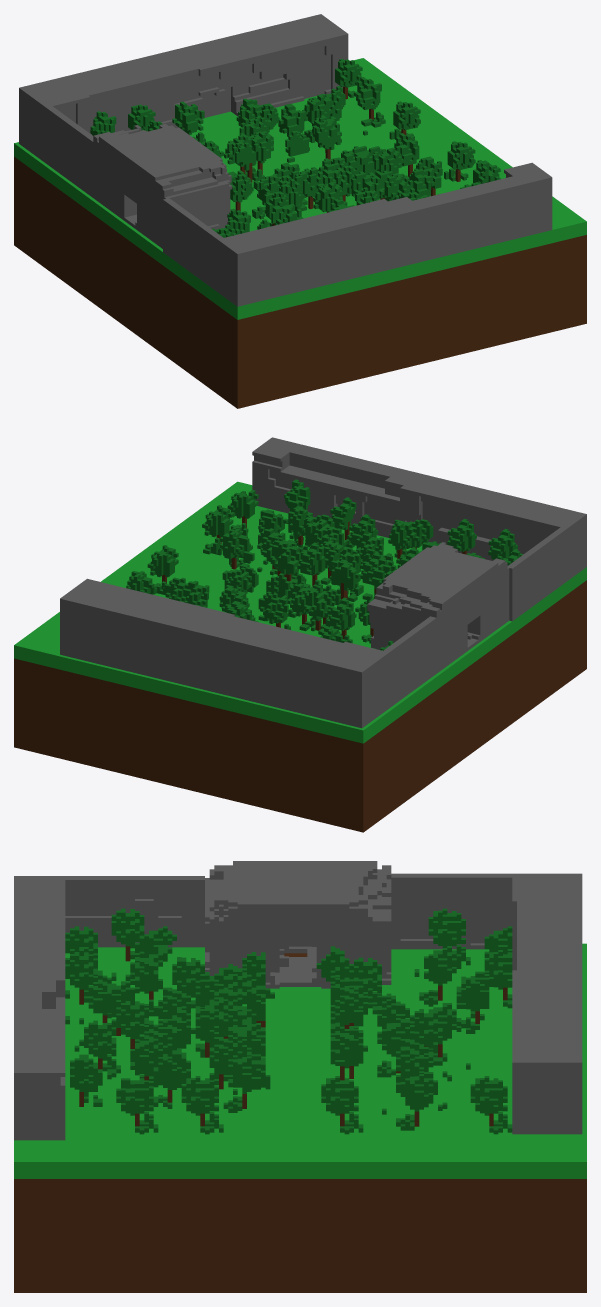
The model's file is Place2.obj.
3 views of the same model, one above another, from view 1: azimuth 30°, elevation 25°; view 2: azimuth 150°, elevation 25°; view 3: azimuth 270°, elevation 25° (orthographic). The views are drawn at different scales.
Size of the model in its own units: 11.1 by 5.1 by 12.3.
1 material, 1 textured.
